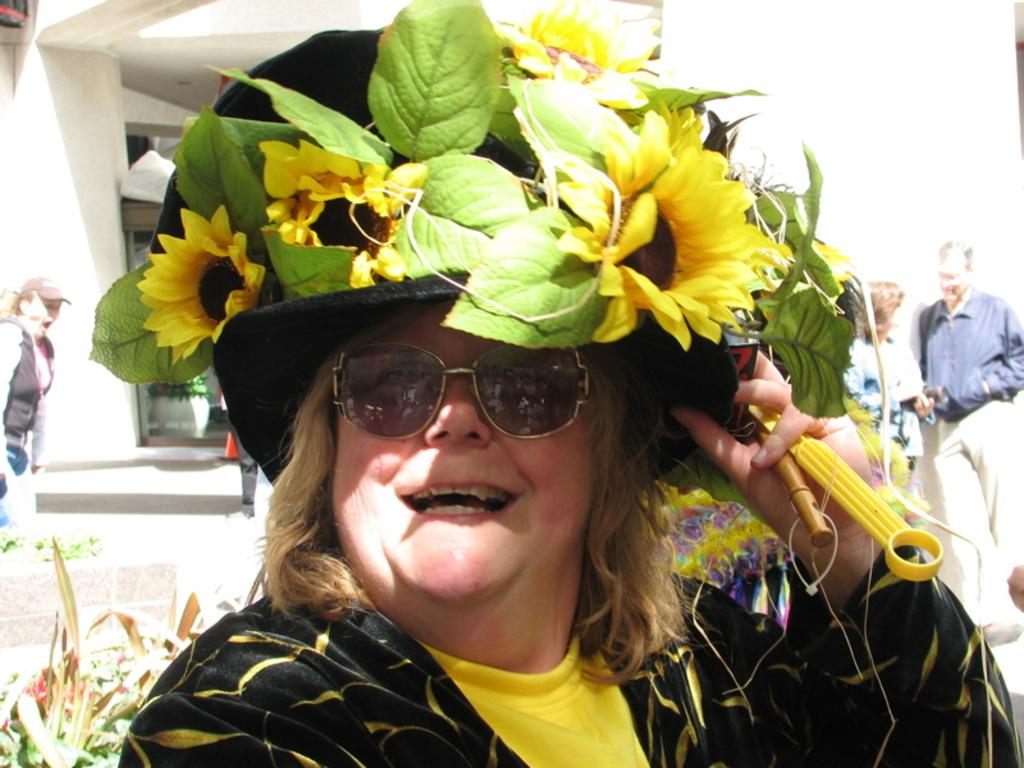Hat: (78, 0, 854, 482)
